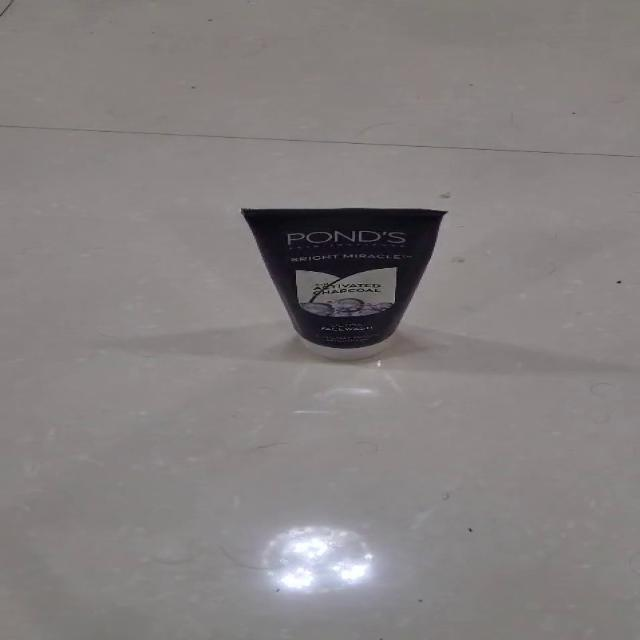plastic: (238, 206, 448, 360)
